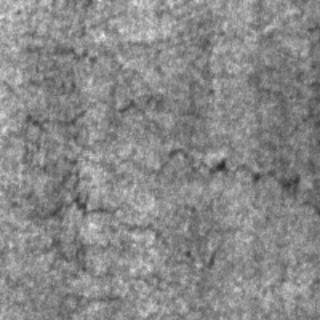crazing: (69, 191, 283, 275), (92, 130, 310, 210), (0, 103, 118, 219), (10, 229, 124, 299)
